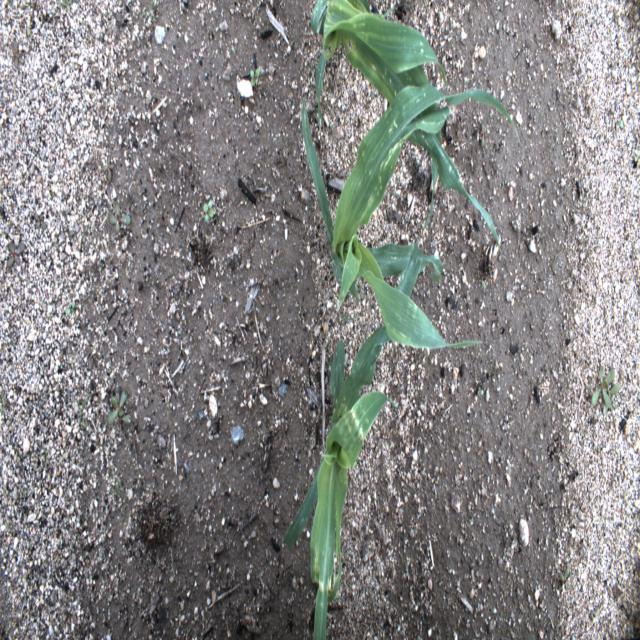crop: (302, 82, 522, 348), (281, 242, 424, 638), (310, 0, 504, 257)
weed: (591, 363, 620, 419), (107, 391, 132, 426), (203, 200, 214, 222), (250, 68, 260, 86)
